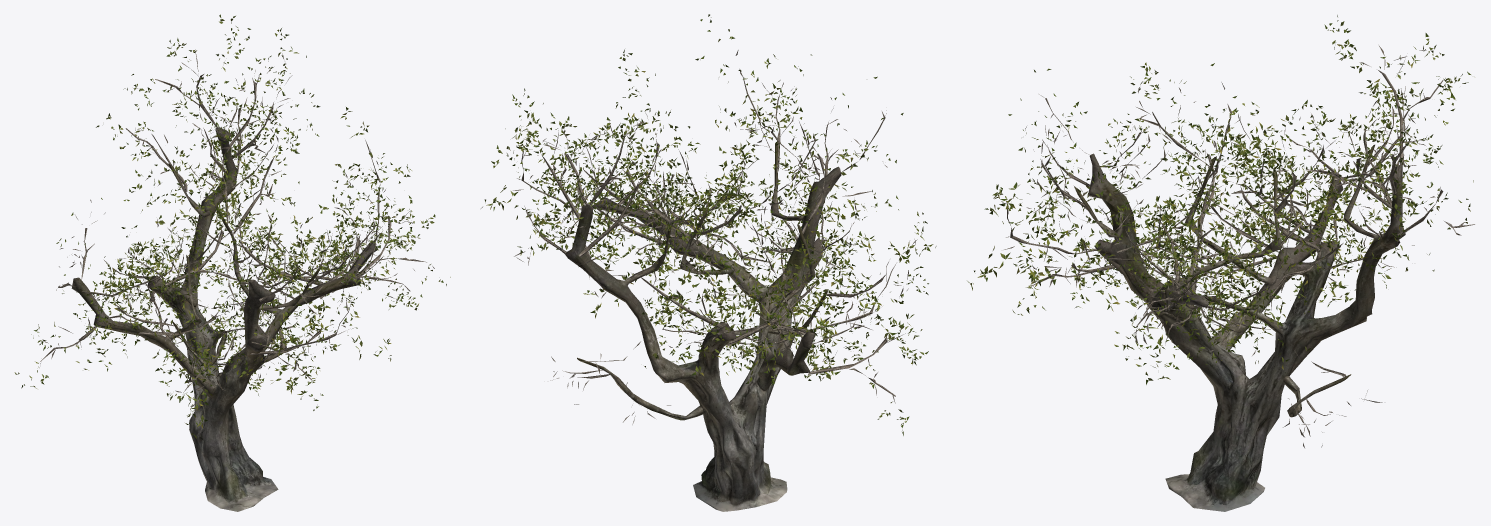
Rendered from island1.glb.
The picture shows the model from 3 angles, left to right: view 1: azimuth 30°, elevation 25°; view 2: azimuth 150°, elevation 25°; view 3: azimuth 270°, elevation 25°; orthographic projection. The views are drawn at different scales.
Visible parts, largest first — view 1: LOD0; view 2: LOD0; view 3: LOD0.
Boxes of the visible parts, left/top/right/bottom form: LOD0: left=14, top=14, right=450, bottom=511; LOD0: left=481, top=14, right=936, bottom=511; LOD0: left=967, top=15, right=1474, bottom=511.
Size of what is drawn, in the model's own units: 4.7 by 4.98 by 4.58.
3 materials, 3 textured.
